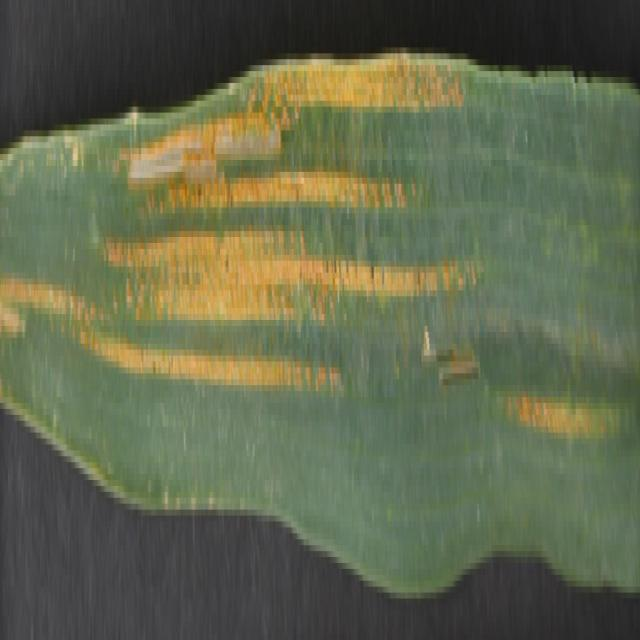leaf rust: (1, 6, 461, 450)
